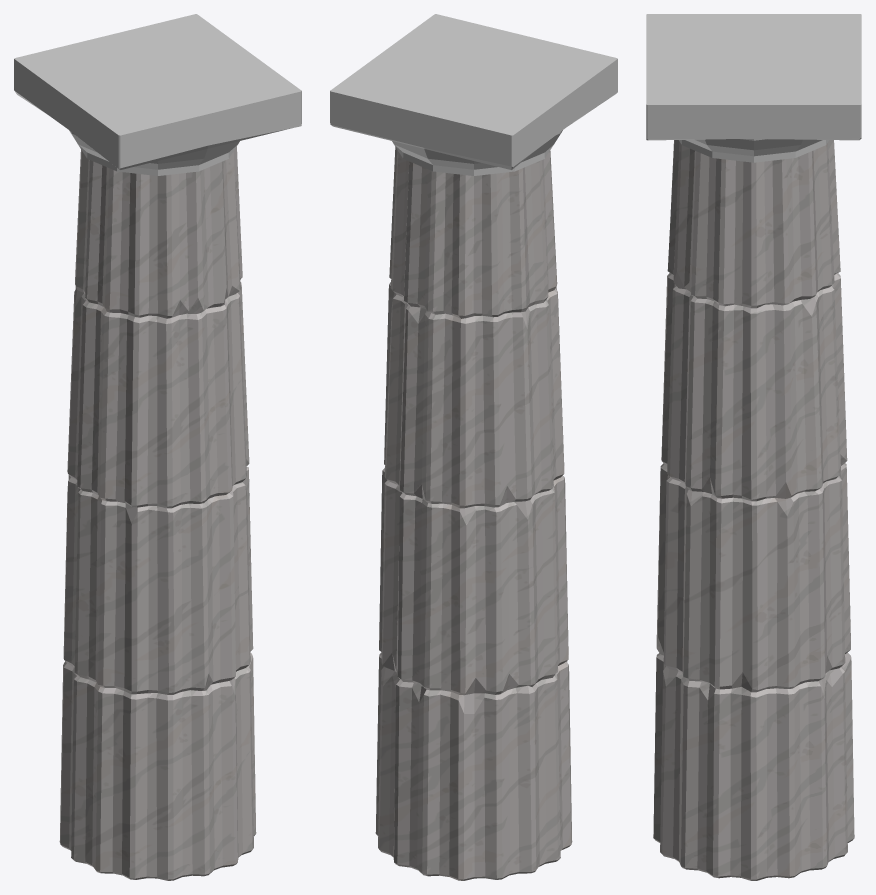
File: SM_Bld_Pillar_Monument_Half_01.fbx
3 views of the same model, side by side, from view 1: azimuth 30°, elevation 25°; view 2: azimuth 150°, elevation 25°; view 3: azimuth 270°, elevation 25° (orthographic).
Visible parts, largest first — view 1: SM_Bld_Pillar_Monument_Half_01; view 2: SM_Bld_Pillar_Monument_Half_01; view 3: SM_Bld_Pillar_Monument_Half_01.
Boxes of the visible parts, box(x1,y1,x2,y2) form: SM_Bld_Pillar_Monument_Half_01: box(14, 14, 301, 880); SM_Bld_Pillar_Monument_Half_01: box(330, 14, 617, 880); SM_Bld_Pillar_Monument_Half_01: box(646, 14, 861, 880).
Size of the model in its own units: 150 by 600 by 150.
